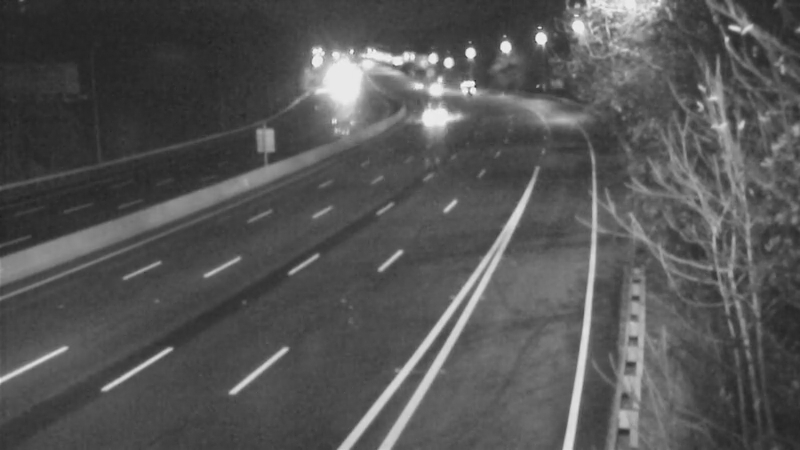vehicle: (391, 58, 441, 108), (442, 62, 492, 112), (407, 62, 457, 112), (407, 86, 457, 136), (316, 61, 366, 111)
